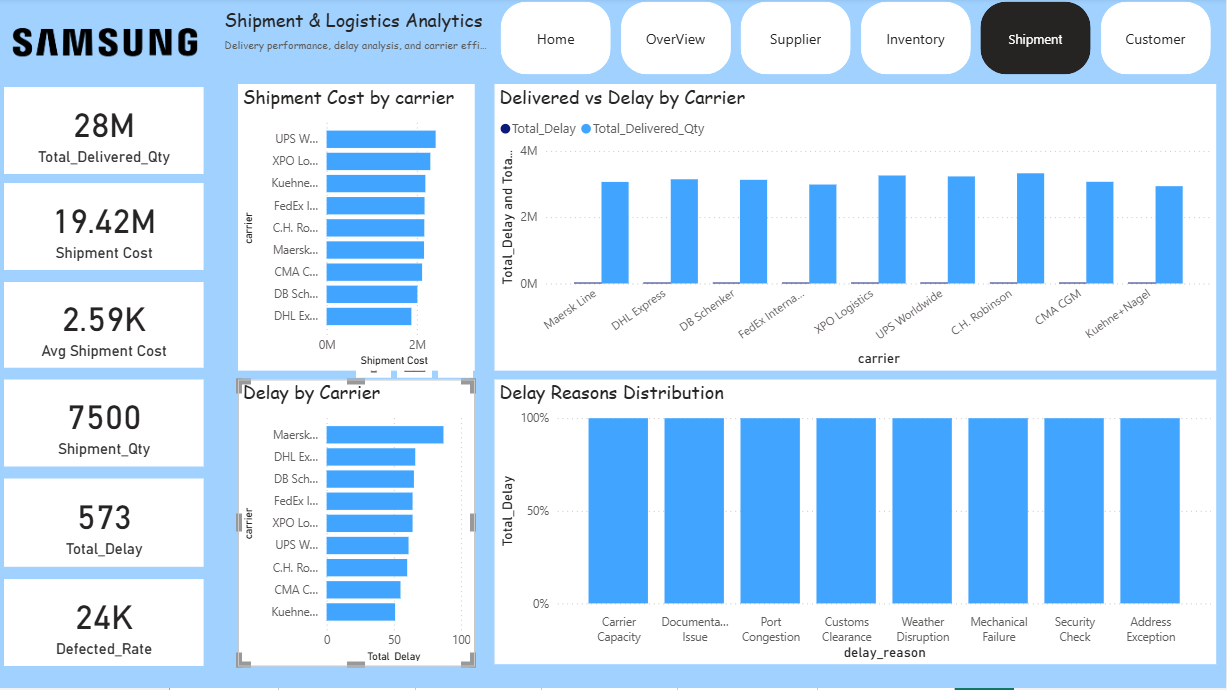

What the dashboard file says about the page in this screenshot:
{"tool":"powerbi","page":{"name":"Shipment","canvas":[1280,720],"ordinal":4},"visuals":[{"type":"shape","title":"Shipment","box":[236,10.9,273.5,65.6],"z":0},{"type":"image","box":[0,0,214.1,93.8],"z":1000},{"type":"card","fields":{"Values":["Measure_Table.Total_Delivered_Qty"]},"box":[6.3,93.8,207.9,90.7],"z":2000},{"type":"card","fields":{"Values":["Measure_Table.Shipment Cost"]},"box":[6.3,193.8,207.9,90.7],"z":3000},{"type":"card","fields":{"Values":["Measure_Table.Avg Shipment Cost"]},"box":[6.3,297,207.9,89.1],"z":4000},{"type":"card","fields":{"Values":["Measure_Table.Total_shipment"]},"box":[6.3,398.6,207.9,90.7],"z":5000},{"type":"card","fields":{"Values":["Measure_Table.Total_Delay"]},"box":[6.3,501.7,207.9,92.2],"z":6000},{"type":"card","fields":{"Values":["Measure_Table.Defected_Rate"]},"box":[6.3,606.4,207.9,90.7],"z":7000},{"type":"clusteredBarChart","fields":{"Y":["Measure_Table.Total_Delay"],"Category":["fact_shipment.carrier"]},"box":[250.1,398.6,247,298.5],"z":8000},{"type":"hundredPercentStackedColumnChart","fields":{"Category":["fact_shipment.delay_reason"],"Y":["Measure_Table.Total_Delay"]},"box":[517.3,398.6,751.8,297],"z":9000},{"type":"clusteredColumnChart","fields":{"Category":["fact_shipment.carrier"],"Y":["Measure_Table.Total_Delay","Measure_Table.Total_Delivered_Qty"]},"box":[517.3,90.7,751.8,298.5],"z":10000},{"type":"clusteredBarChart","fields":{"Y":["Measure_Table.Shipment Cost"],"Category":["fact_shipment.carrier"]},"box":[250.1,90.7,247,298.5],"z":11000},{"type":"pageNavigator","box":[523.6,4.7,745.5,76.6],"z":12000}]}

Visuals, with their boxes in screenshot pixels (x1, y1, x2, y2), scaled from the page's 1280x720 canvas onto the 1227x690 screenshot:
"Shipment" shape: crop(226, 10, 488, 73)
image: crop(0, 0, 205, 90)
card - Measure_Table.Total_Delivered_Qty: crop(6, 90, 205, 177)
card - Measure_Table.Shipment Cost: crop(6, 186, 205, 273)
card - Measure_Table.Avg Shipment Cost: crop(6, 285, 205, 370)
card - Measure_Table.Total_shipment: crop(6, 382, 205, 469)
card - Measure_Table.Total_Delay: crop(6, 481, 205, 569)
card - Measure_Table.Defected_Rate: crop(6, 581, 205, 668)
clusteredBarChart - Measure_Table.Total_Delay x fact_shipment.carrier: crop(240, 382, 477, 668)
hundredPercentStackedColumnChart - fact_shipment.delay_reason x Measure_Table.Total_Delay: crop(496, 382, 1217, 667)
clusteredColumnChart - fact_shipment.carrier x Measure_Table.Total_Delay: crop(496, 87, 1217, 373)
clusteredBarChart - Measure_Table.Shipment Cost x fact_shipment.carrier: crop(240, 87, 477, 373)
pageNavigator: crop(502, 5, 1217, 78)
